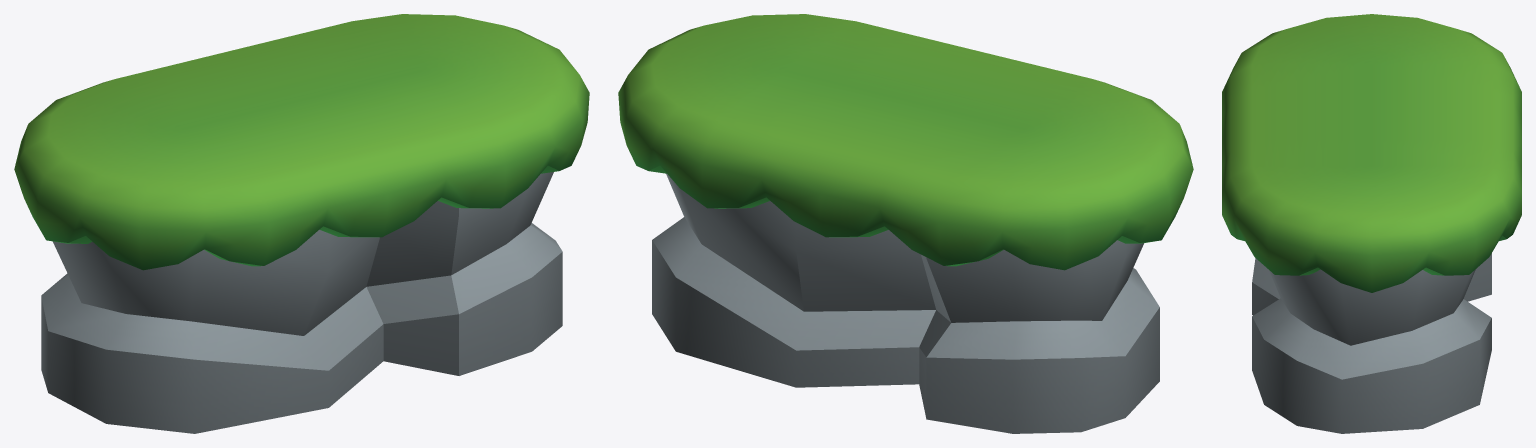
The model's file is Hill_4x2x2_Color1.gltf.
3 renders of one model, left to right at view 1: azimuth 30°, elevation 25°; view 2: azimuth 150°, elevation 25°; view 3: azimuth 270°, elevation 25°, orthographic. The views are drawn at different scales.
Parts seen in each view (by area): view 1: Hill_4x2x2_Color1; view 2: Hill_4x2x2_Color1; view 3: Hill_4x2x2_Color1.
Boxes of the visible parts, <box> form: Hill_4x2x2_Color1: <box>14,14,589,433</box>; Hill_4x2x2_Color1: <box>618,14,1193,433</box>; Hill_4x2x2_Color1: <box>1222,14,1521,433</box>.
Size of the model in its own units: 4.47 by 2 by 2.5.
Materials: 1 (1 with a texture image).
